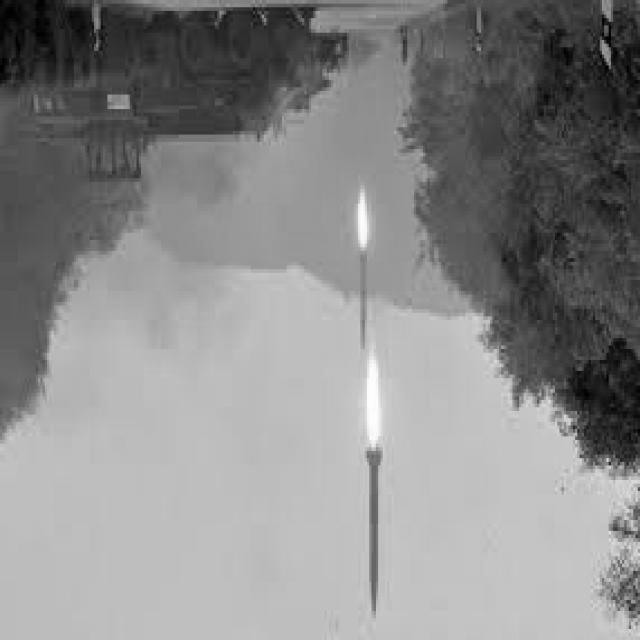Missile: (365, 437, 386, 623), (356, 223, 372, 357)
